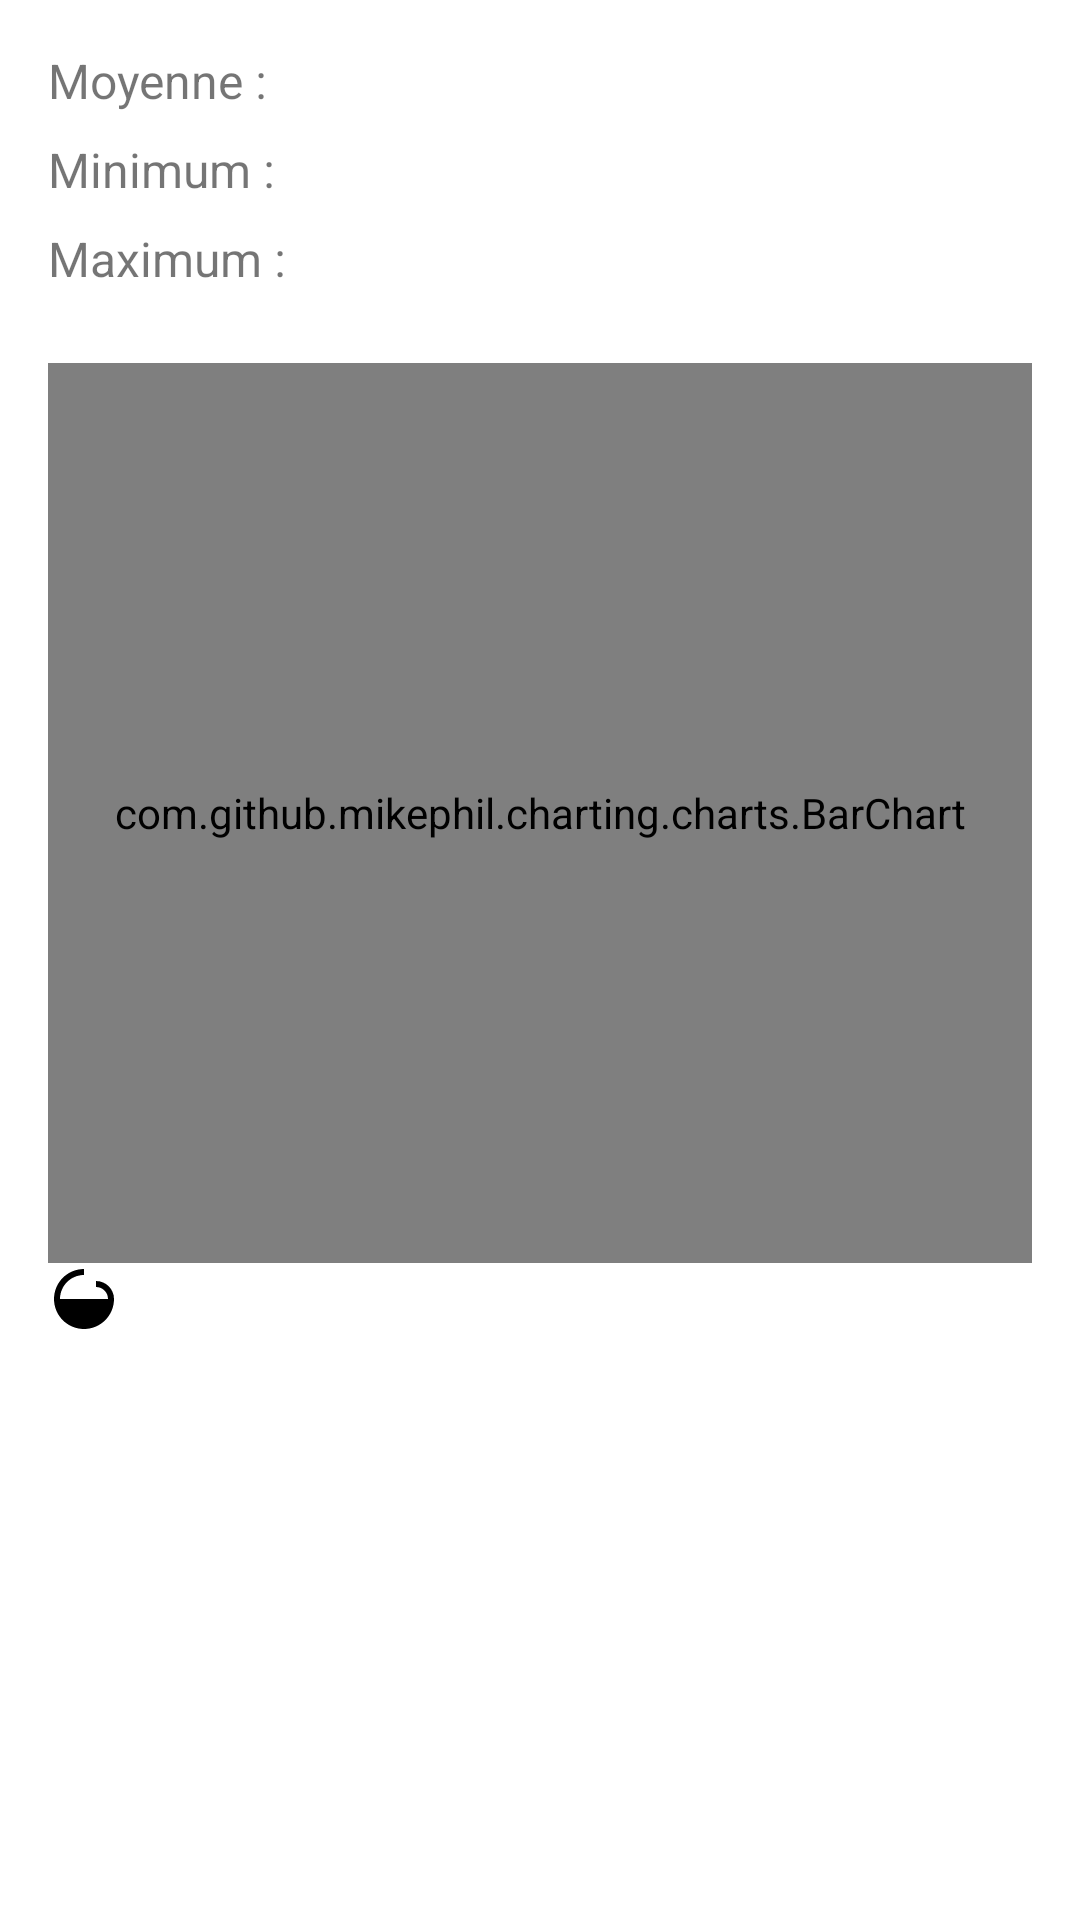

Screen size 1080×1920. Icon name, then its box in pixels as (left=x1, top=y1, right=x2, bottom=y2):
Changer de graphique: (left=54, top=1269, right=114, bottom=1329)
